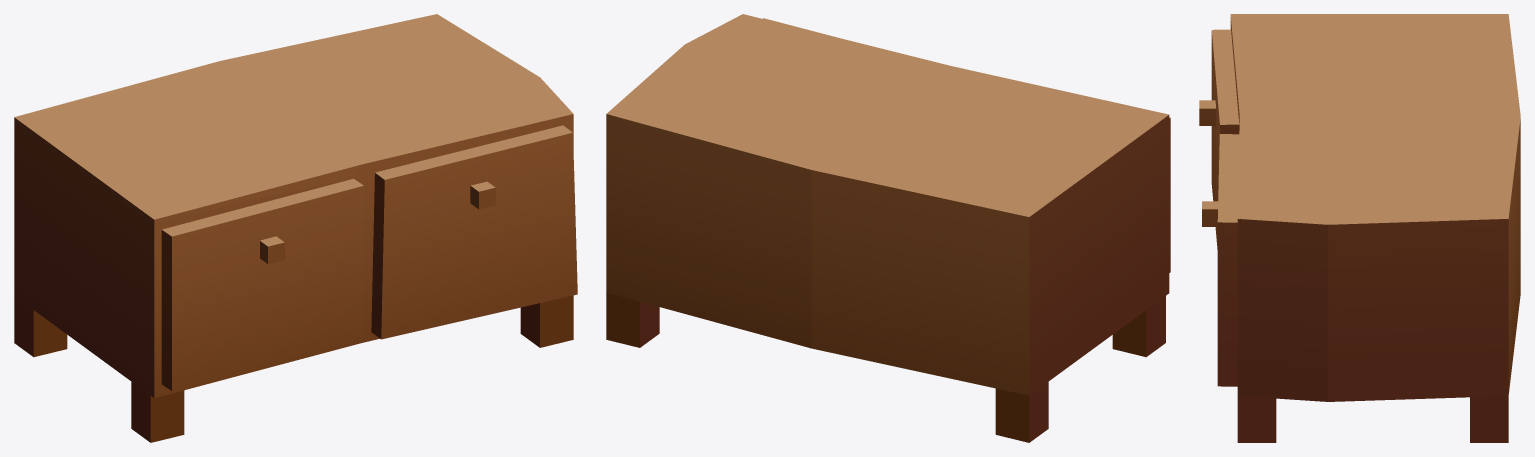
Rendered from Stand.fbx.
3 views of the same model, side by side, from view 1: azimuth 30°, elevation 25°; view 2: azimuth 150°, elevation 25°; view 3: azimuth 270°, elevation 25° (orthographic).
Parts seen in each view (by area): view 1: Stand; view 2: Stand; view 3: Stand.
Part boxes in pixels (<box>): Stand: <box>14,14,577,442</box>; Stand: <box>606,14,1170,442</box>; Stand: <box>1199,14,1520,442</box>.
Bounding box in the file's own units: 129 × 63.87 × 83.04.
